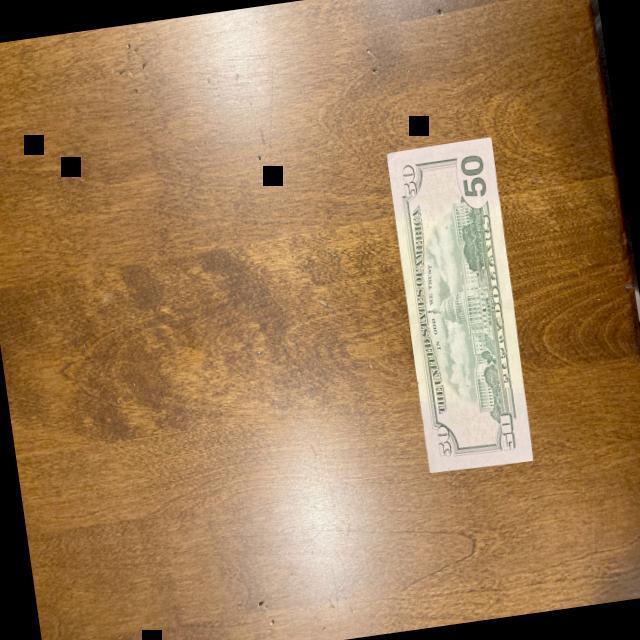fifty: (384, 133, 537, 474)
